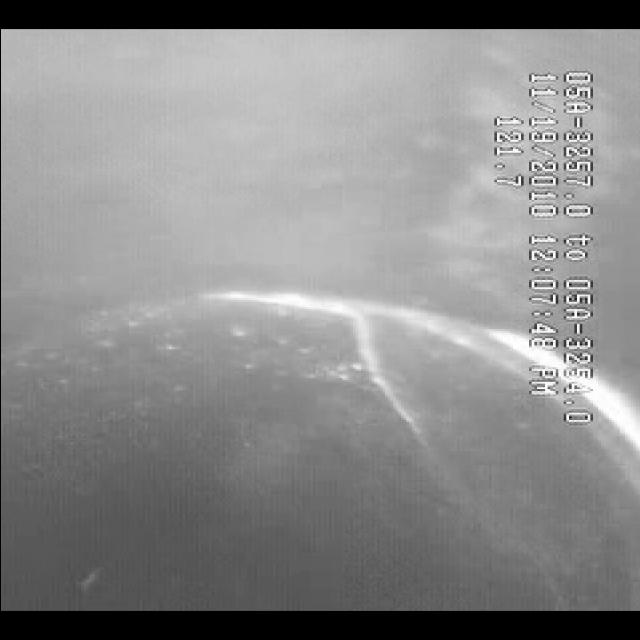Crack: (310, 296, 454, 566)
